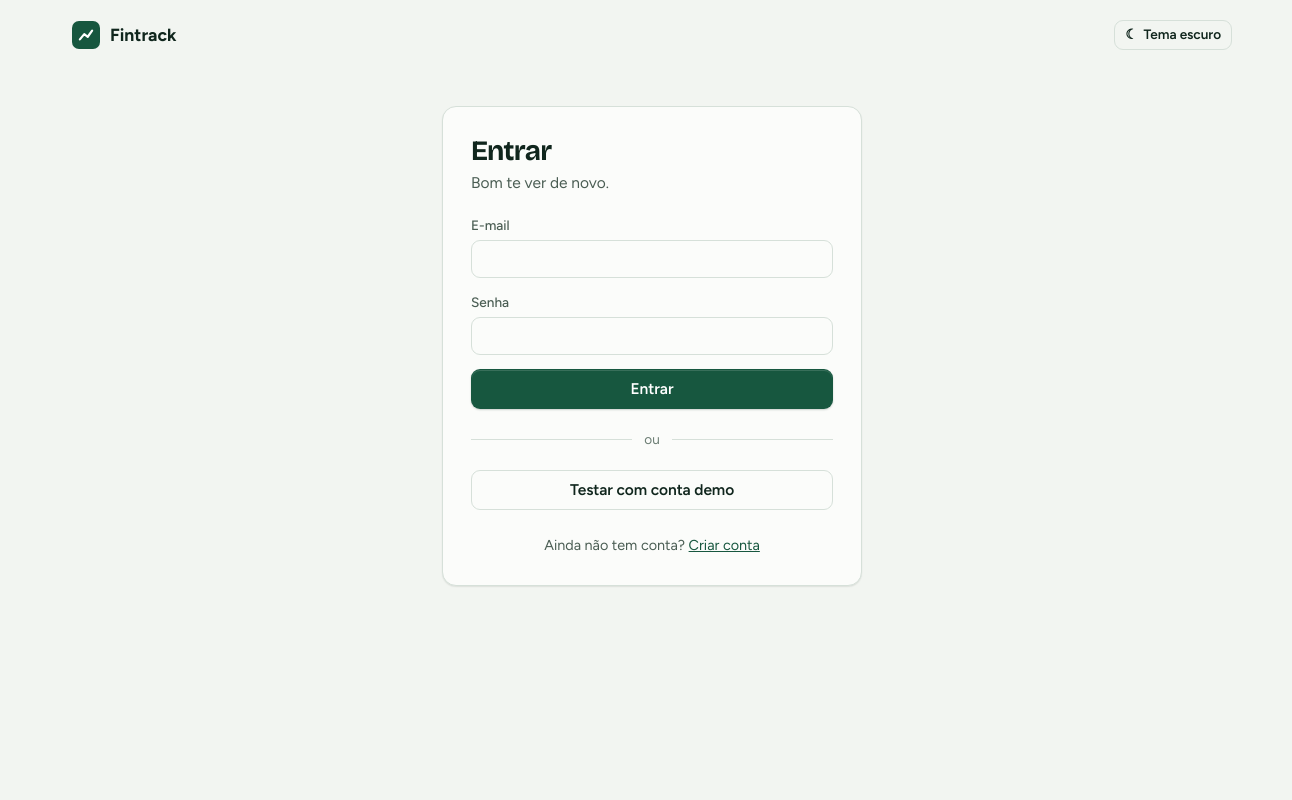
Auth flow › AC-503: signs in and returns to the protected route
Type "ana@example.com" into the field labelled "E-mail" at (652, 259), box 471,240 -> 833,278
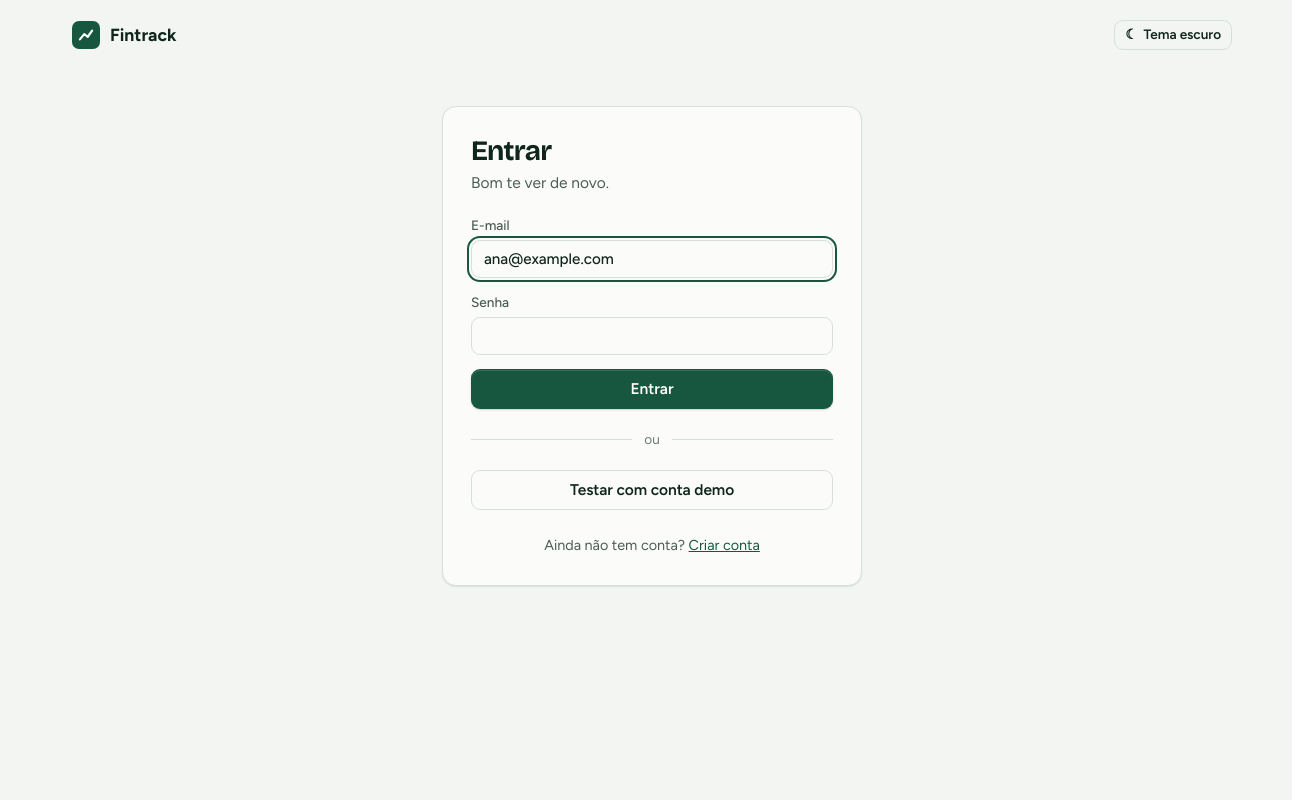
Type "segredo123" into the password field labelled "Senha" at (652, 336), box 471,317 -> 833,355
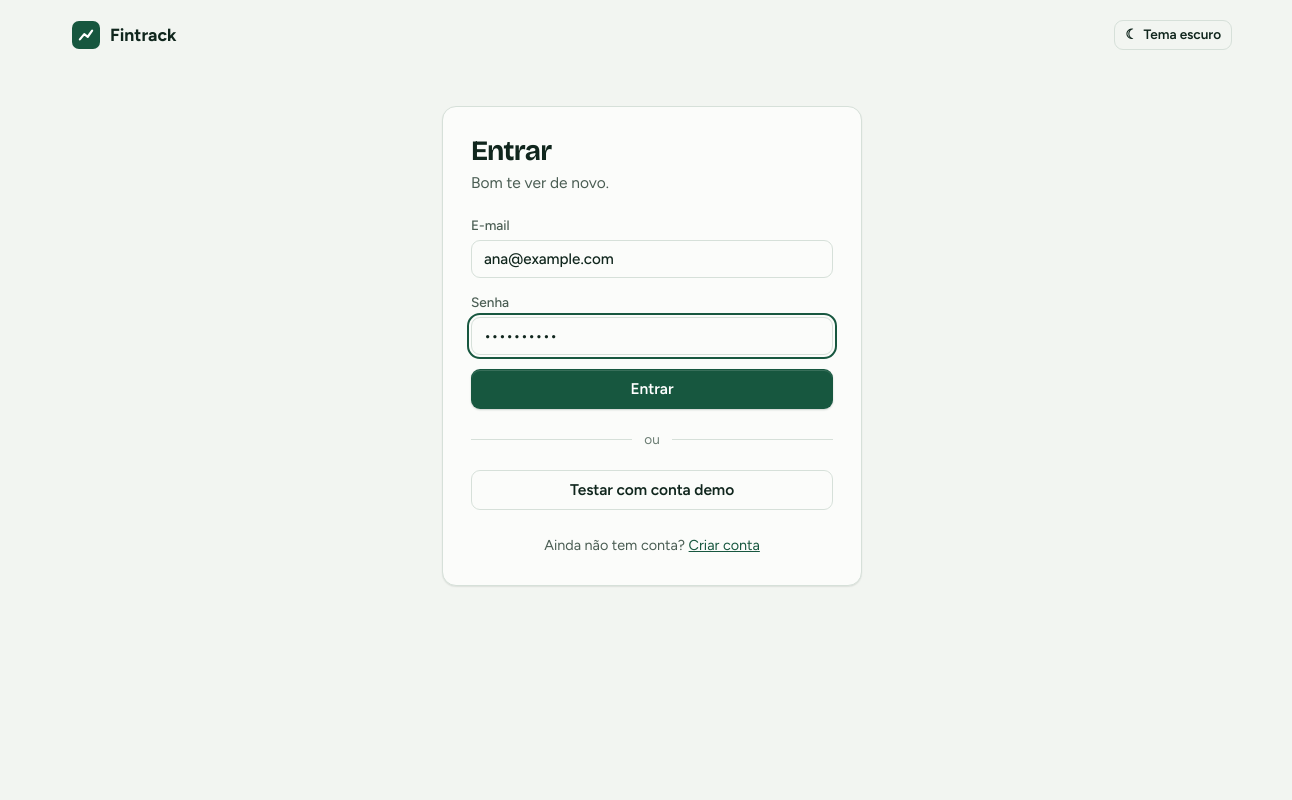
Click the button "Entrar" at (652, 389), box 471,369 -> 833,409
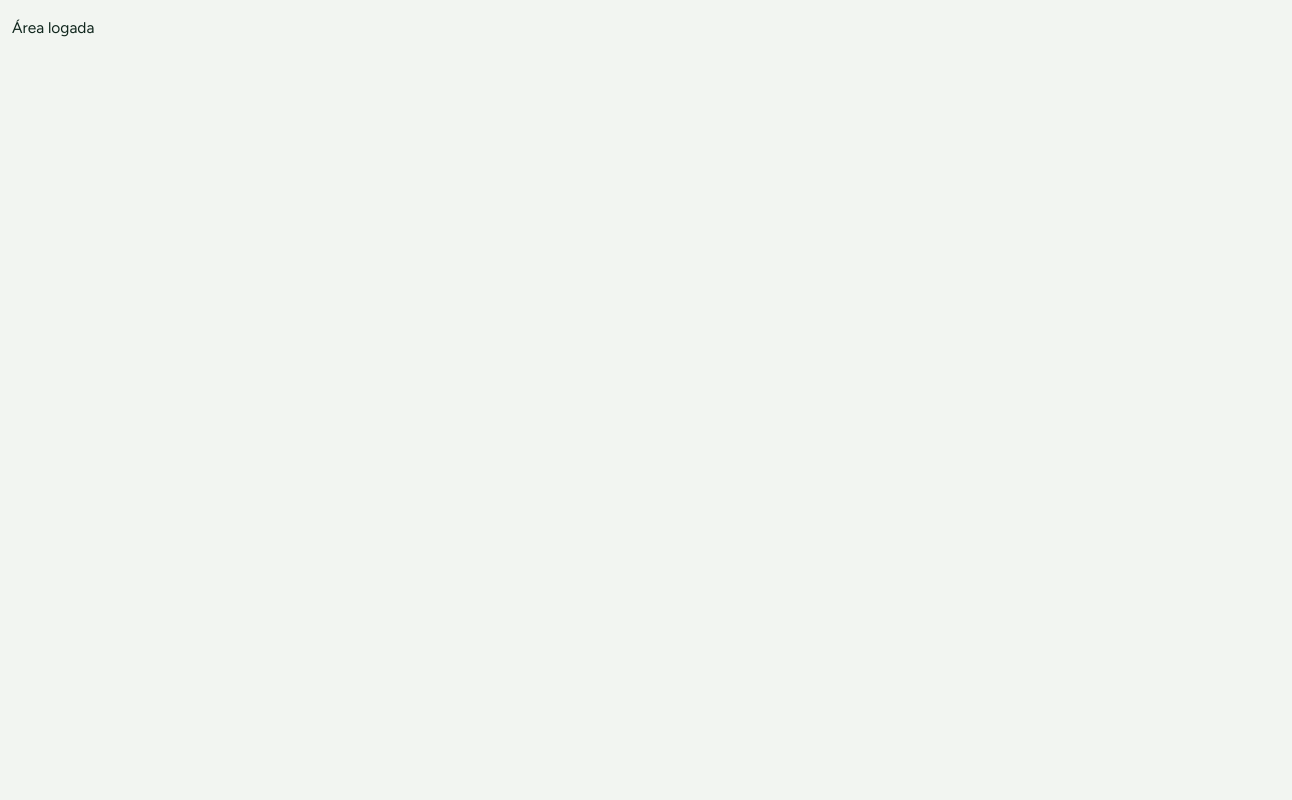
Check: the text "Área logada" is shown, box 12,18 -> 94,36
